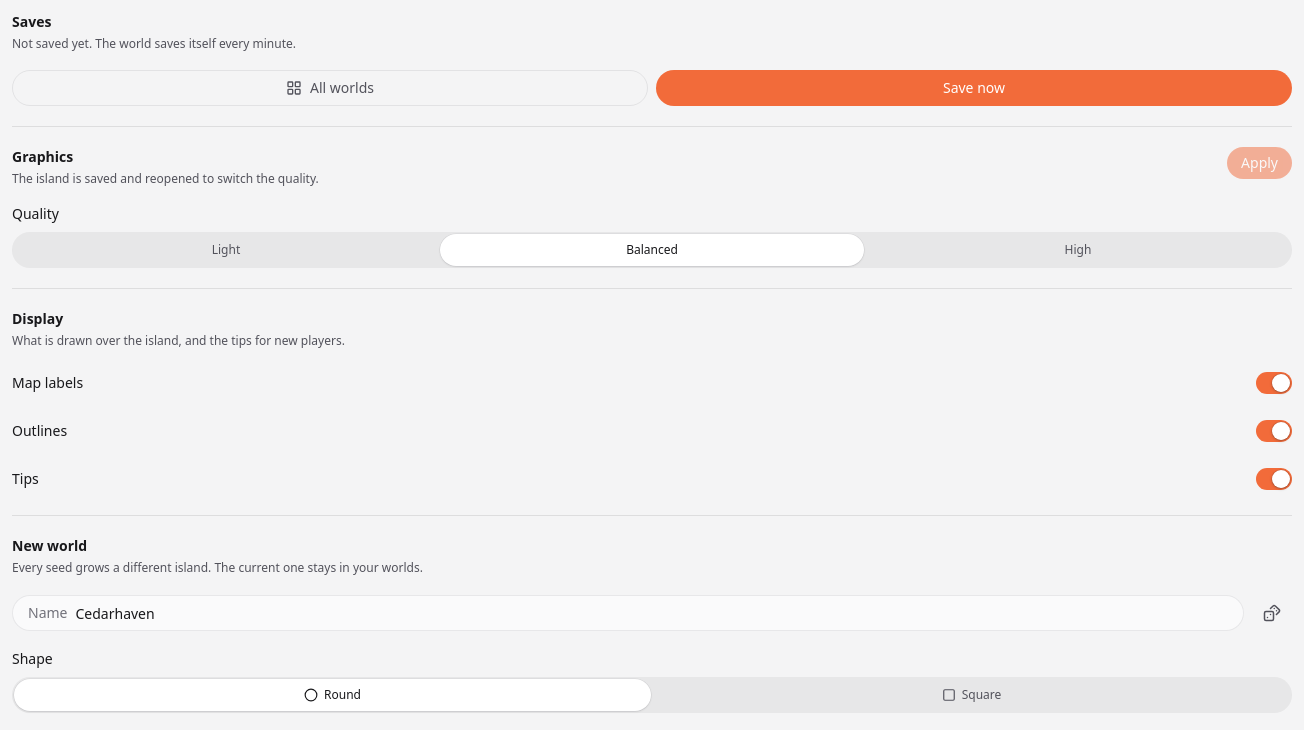
it: island section › remembers a new quality and offers to apply it
The image size is (1304, 730).
Click the button "High".
click(1078, 250)  # box [866,234,1290,266]
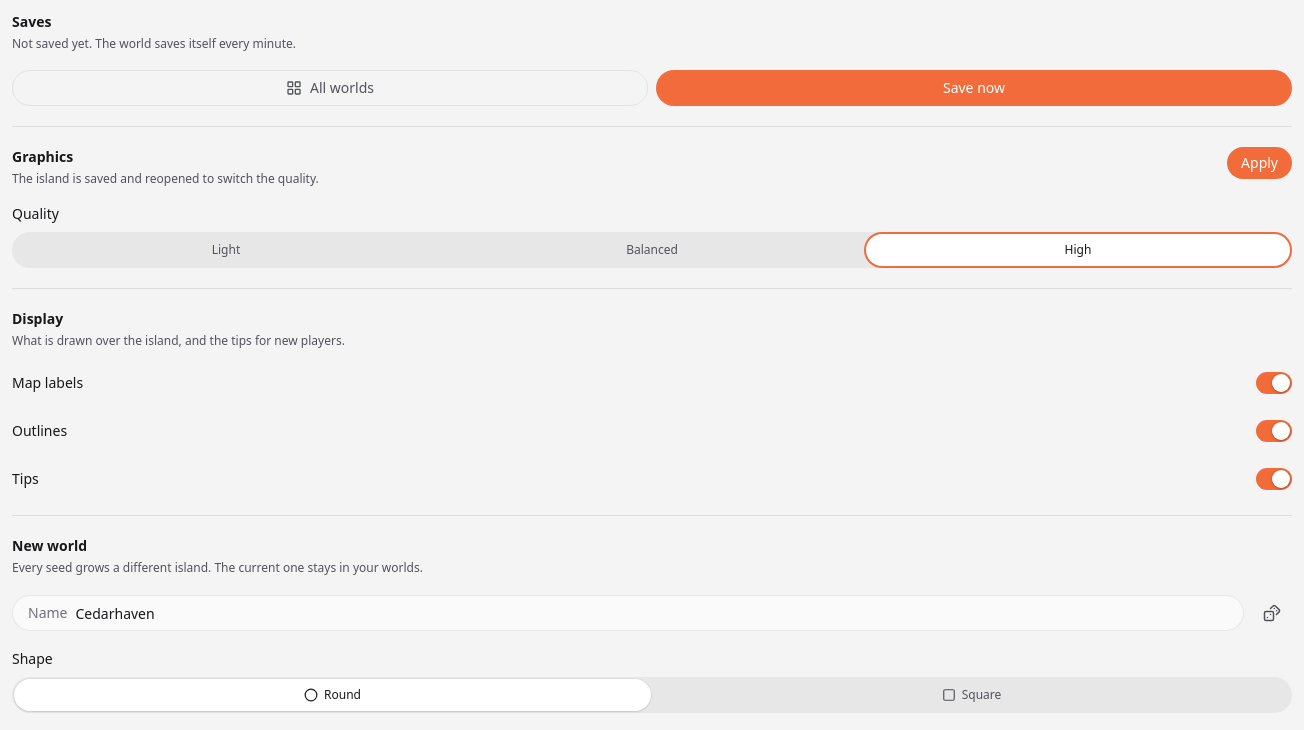
Expected: the button "Apply" is enabled, [1227,146,1292,178]
